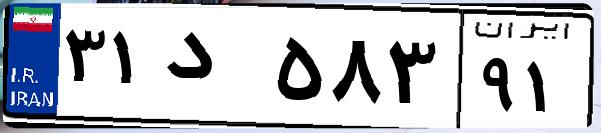1: (525, 38, 570, 115), (110, 28, 158, 98)
3: (385, 28, 445, 110), (57, 26, 110, 100)
5: (270, 28, 330, 110)
8: (330, 28, 385, 110)
9: (475, 38, 525, 113)
د: (158, 20, 270, 120)
